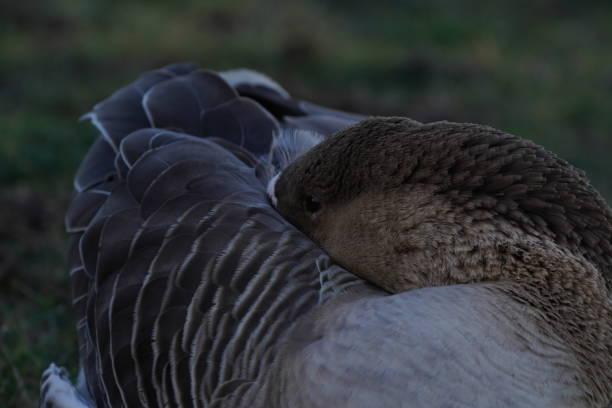Canadian-Goose: (78, 62, 612, 408)
